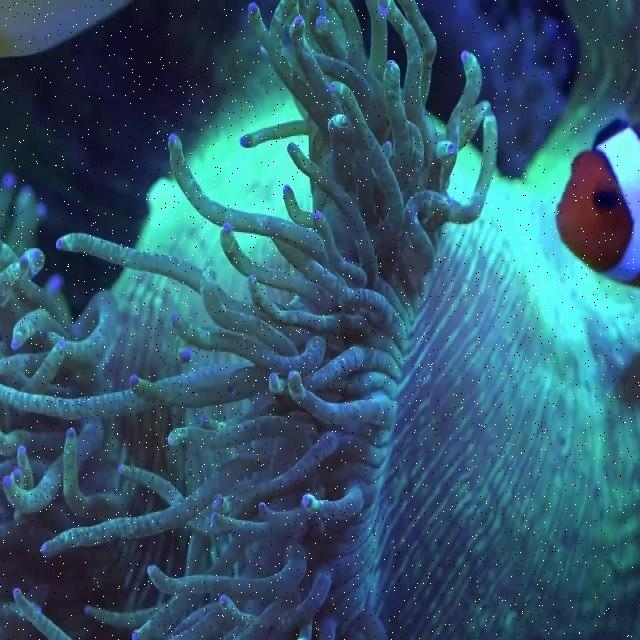fish: (556, 120, 639, 289)
reefs: (0, 0, 639, 639), (425, 1, 575, 182)
